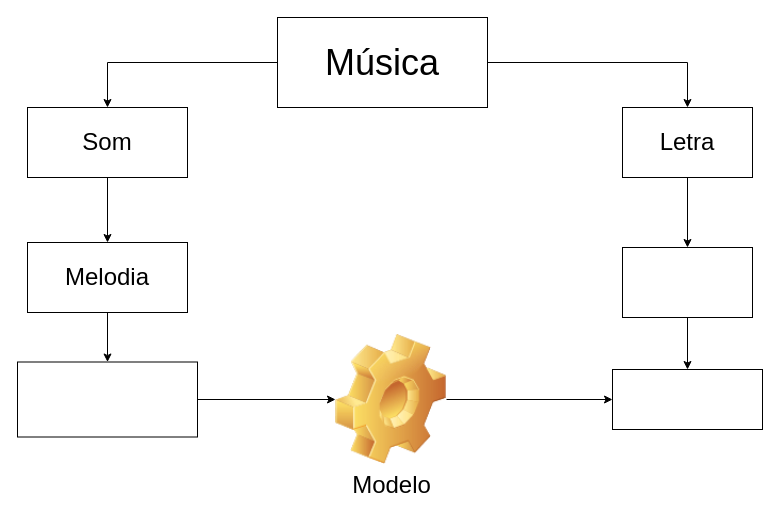
Image size: 780x518. Some labels were removed from this diagram. Each missing label, with the box of its shape:
Características melódicas: (16, 361, 198, 437)
Palavras: (622, 246, 752, 318)
Sentimentos: (612, 368, 762, 430)
